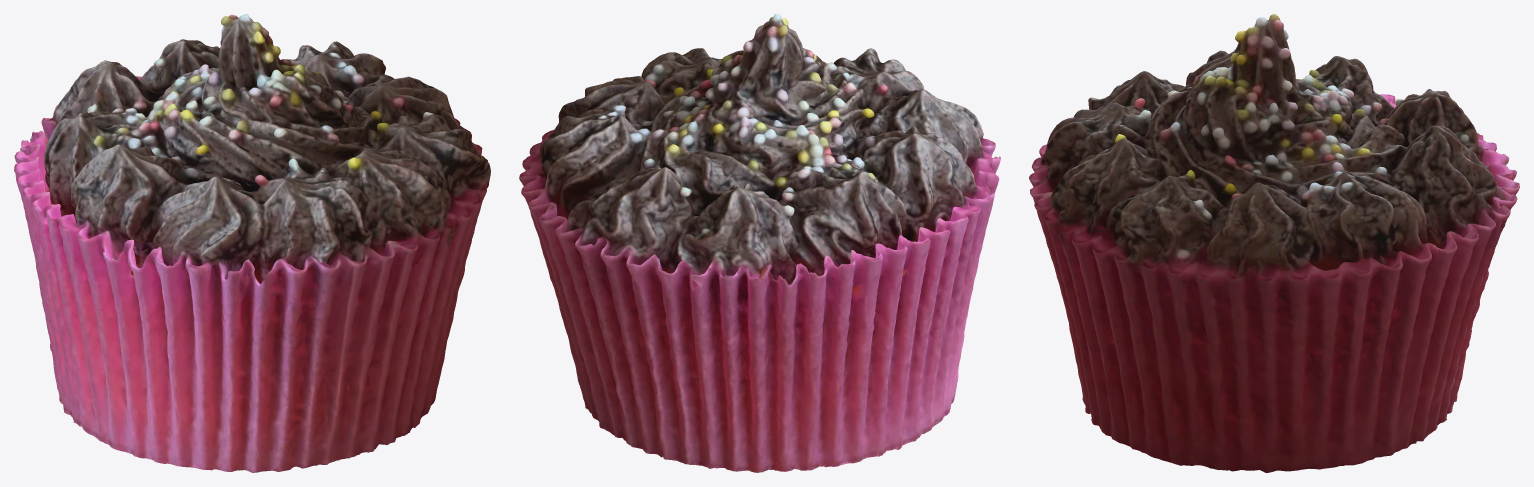
Rendered from cupcake_realityscan-transformed.glb.
3 views of the same model, side by side, from view 1: azimuth 30°, elevation 25°; view 2: azimuth 150°, elevation 25°; view 3: azimuth 270°, elevation 25° (orthographic).
Visible parts, largest first — view 1: model_tex_u1_v1_0; view 2: model_tex_u1_v1_0; view 3: model_tex_u1_v1_0.
Boxes of the visible parts, x1=… form: model_tex_u1_v1_0: x1=14, y1=14, x2=490, y2=472; model_tex_u1_v1_0: x1=519, y1=14, x2=1000, y2=472; model_tex_u1_v1_0: x1=1029, y1=14, x2=1519, y2=472.
Bounding box in the file's own units: 0.0666 × 0.0593 × 0.0697.
1 material, 1 textured.
